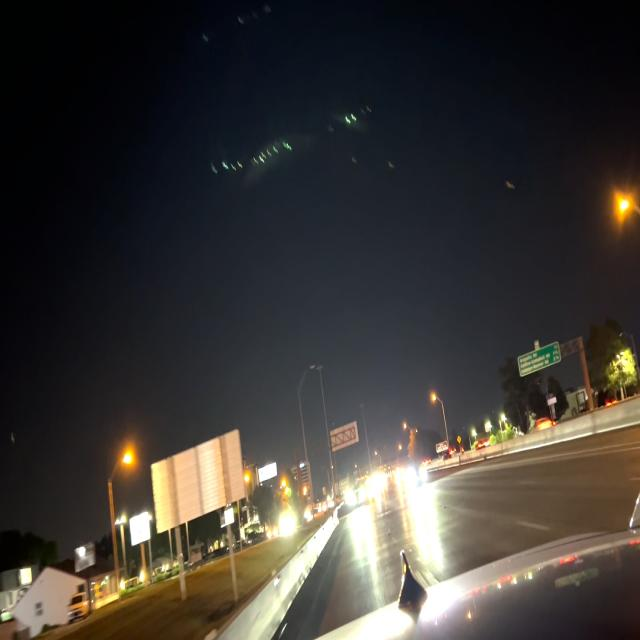back-of-sign: (151, 430, 244, 532)
